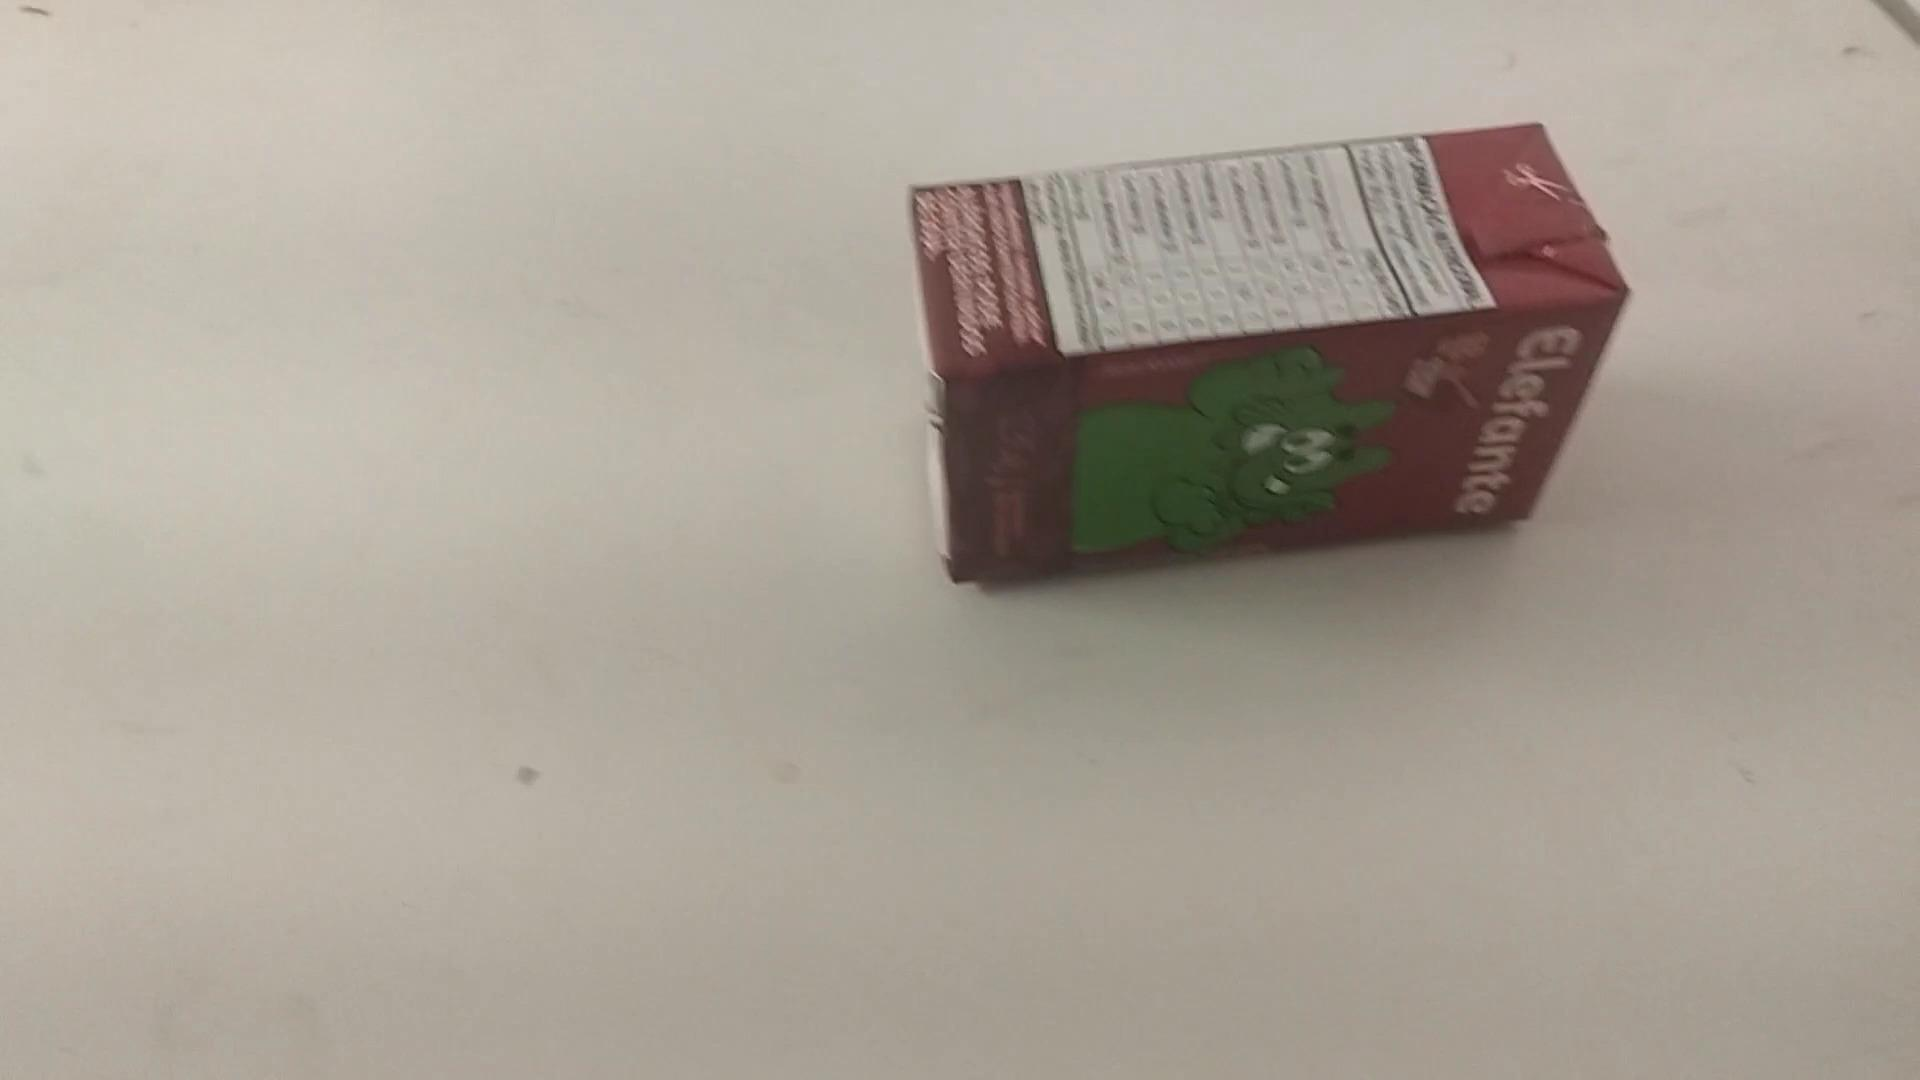tomate: (895, 111, 1640, 600)
